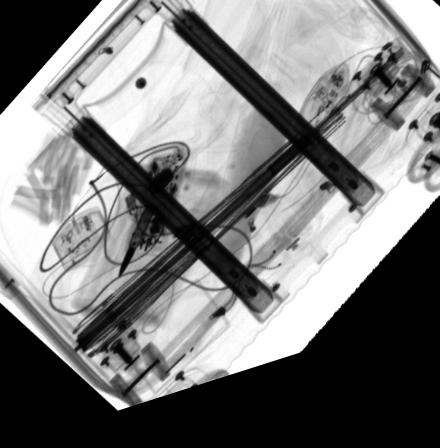Bullet: (117, 212, 157, 285)
